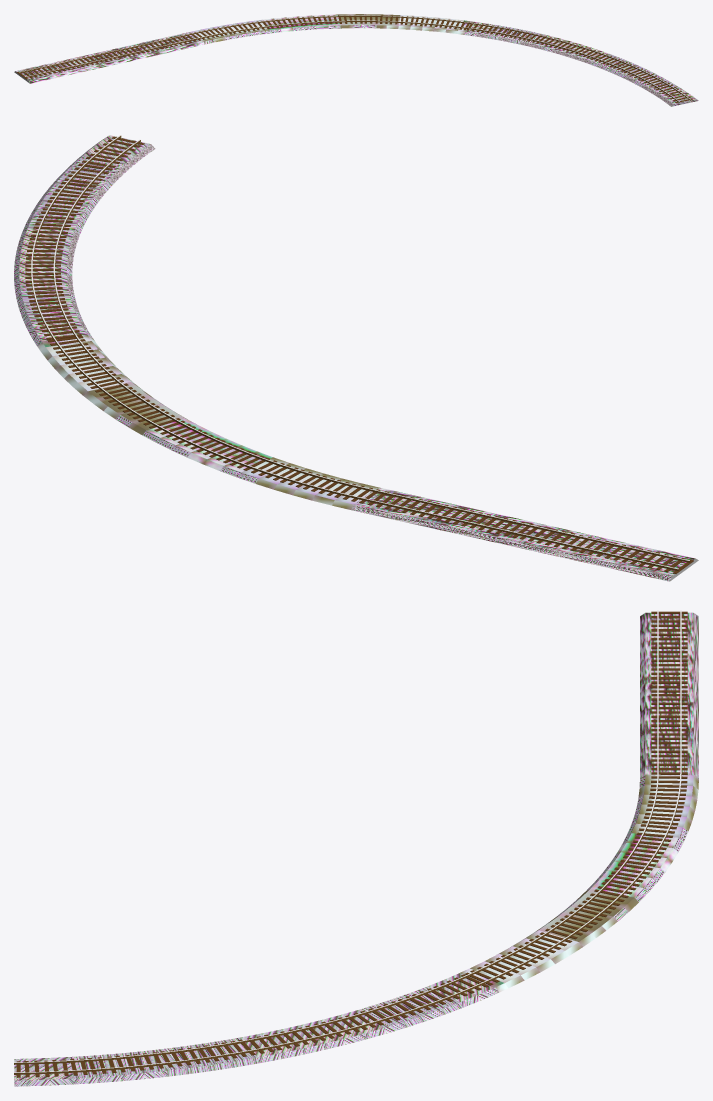
The model's file is GMLID_53596160_235206_887.dae.
3 renders of one model, top to bottom at view 1: azimuth 30°, elevation 25°; view 2: azimuth 150°, elevation 25°; view 3: azimuth 270°, elevation 25°, orthographic. The views are drawn at different scales.
Bounding box in the file's own units: 94.34 × 61.27 × 3.06.
5 materials, 1 textured.
